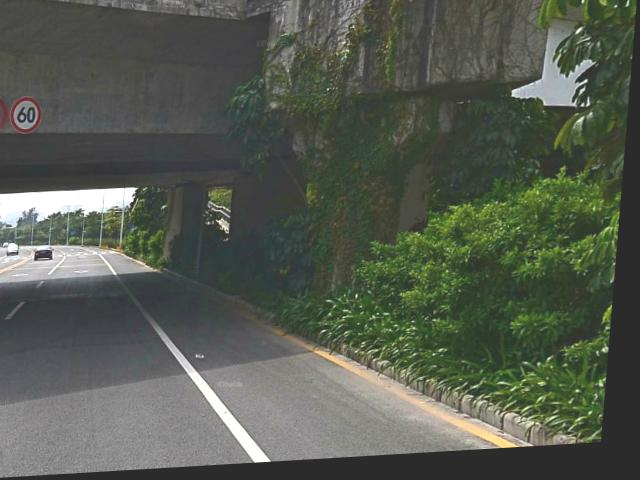limit60: (12, 97, 47, 134)
